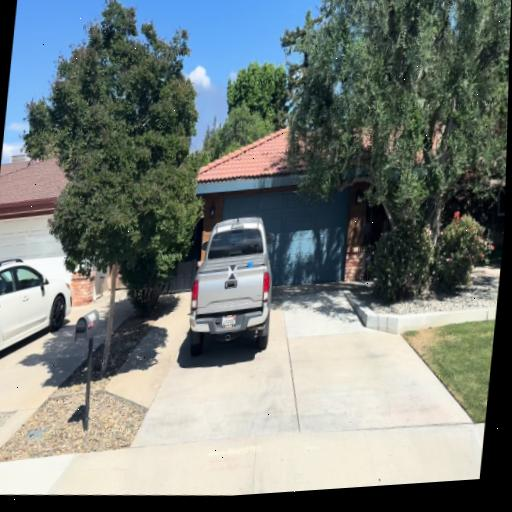target1: (228, 265, 237, 280)
